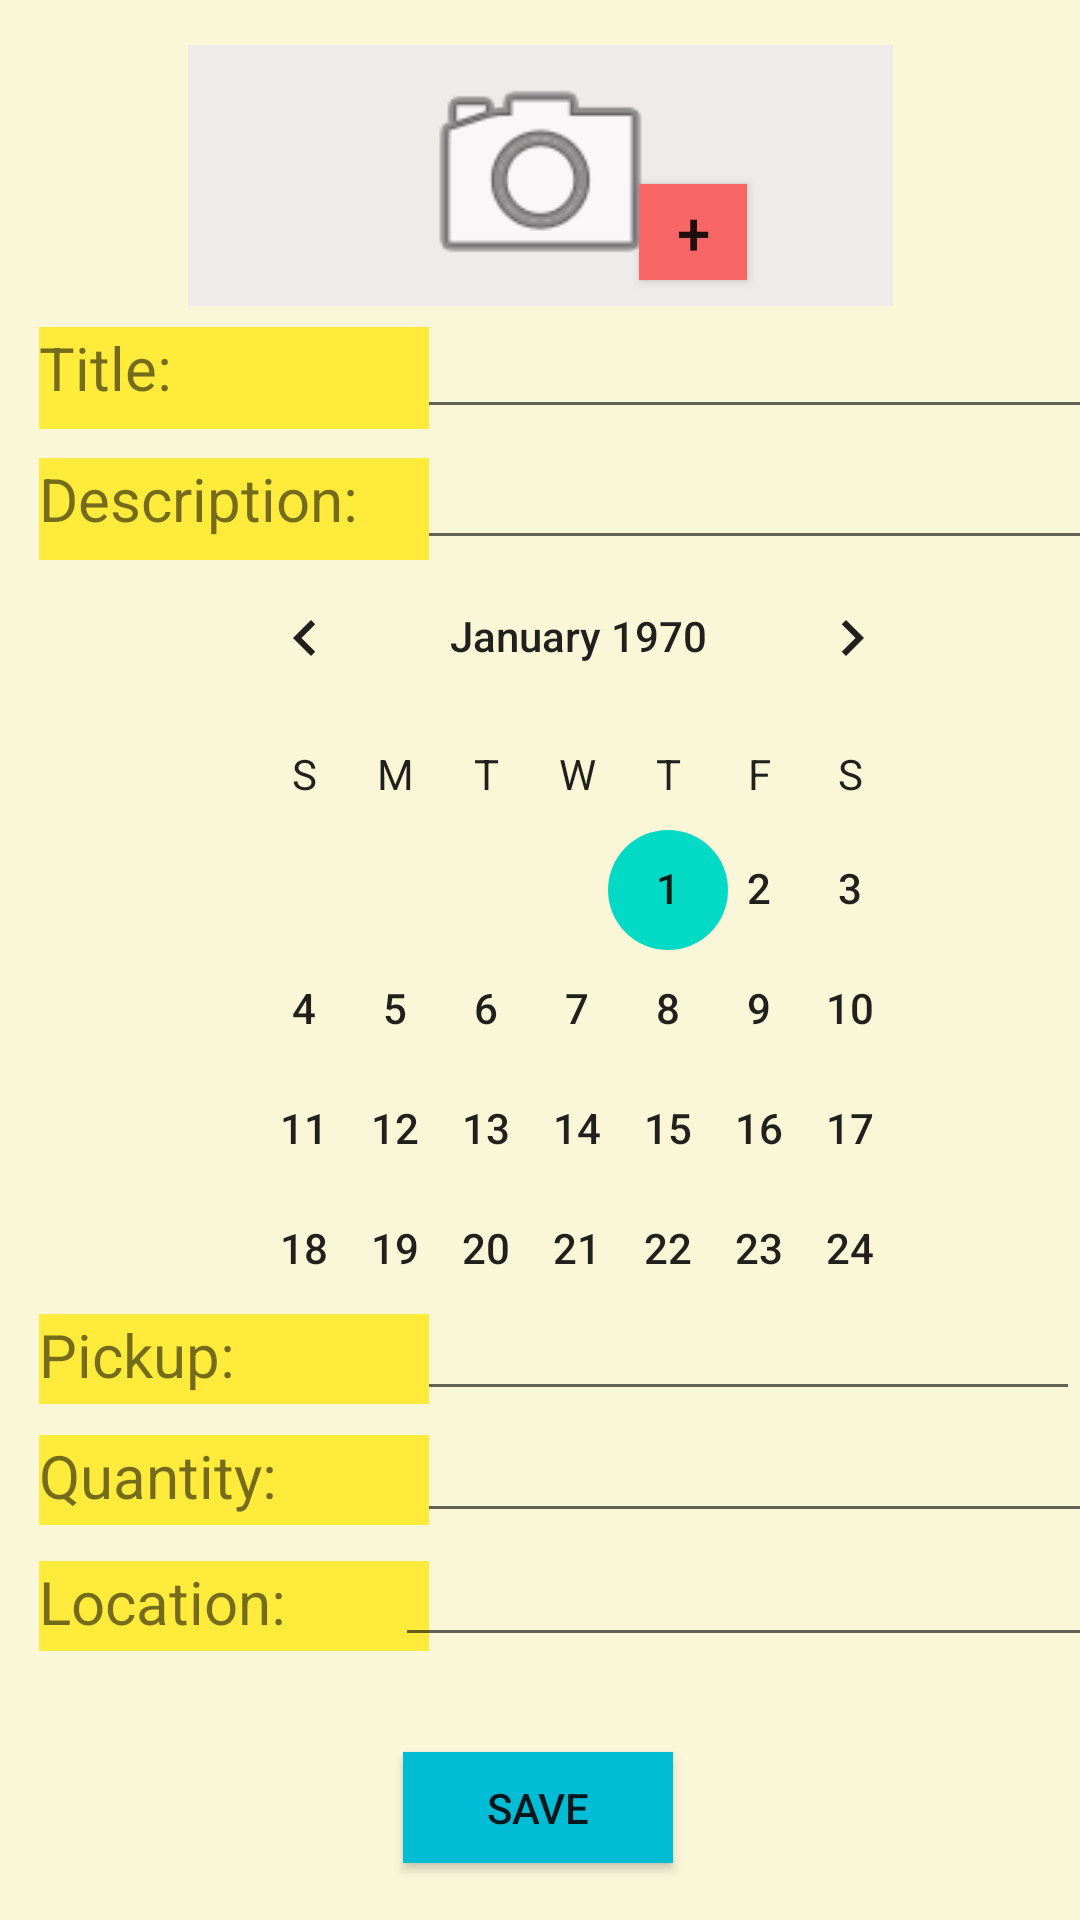

Icon click points for this 1080w x 1920h phone screenshot, format point (x, y):
camera: point (594, 186)
